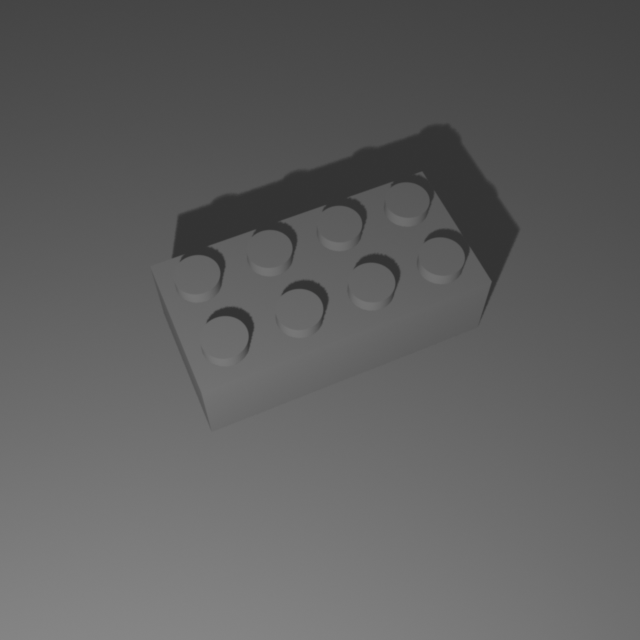lego_2x4: (147, 162, 494, 432)
